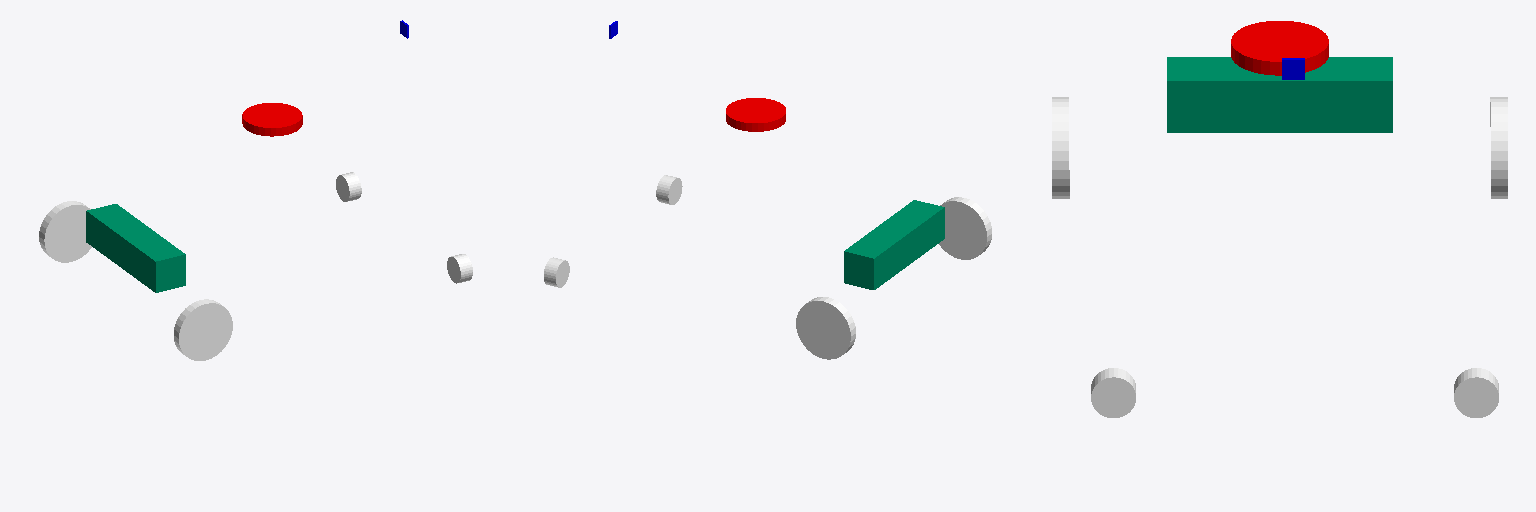
robot.urdf — ikea_table:
<?xml version="1.0" ?>
<robot name="ikea_table">


<link name="base_link"/>


  <joint name="chassis_joint" type="fixed">
    <child link="chassis"/>
    <parent link="base_link"/>
    <origin rpy="0 0 0" xyz="0 0 0.5"/>
  </joint>


  <link name="chassis">
   <visual>
      <origin rpy="0.0 0.0 -1.57" xyz="0 0 0"/>
      <geometry>
        <mesh filename="file://[local-path]/project/ros2_workspace/install/self_driving_bot/share/self_driving_bot/meshes/ikea_table.dae" scale="1 1 1"/>
      </geometry>
    </visual>
    <collision>
      <origin rpy="0.0 0.0 -1.57" xyz="0 0 0"/>
      <geometry>
        <mesh filename="file://[local-path]/project/ros2_workspace/install/self_driving_bot/share/self_driving_bot/meshes/ikea_table.dae" scale="1 1 1"/>
     </geometry>
    </collision>
    <inertial>
      <origin xyz="0.25000000 -0.00000000 0.50000000"/>
      <mass value="4.00000000"/>
      <inertia ixx="0.48390286" ixy="0.00000005" ixz="-0.00091636" iyy="0.57406531" iyz="-0.00033842" izz="0.34467206"/>
    </inertial>
  </link>
  <gazebo reference="chassis">
    <visual>
      <material>
        <ambient>0.4 0.2 0.1 1</ambient> 
        <diffuse>0.6 0.3 0.2 1</diffuse>
        <specular>0.1 0.1 0.1 1</specular> 
        <emissive>0.0 0.0 0.0 1</emissive> 
      </material>
    </visual>
  </gazebo>

  <!-- Control Link -->
  <link name="control">
    <inertial>
      <mass value="1.0"/>
      <origin xyz="0 0 0"/>
      <inertia ixx="0.1" ixy="0.0" ixz="0.0" iyy="0.1" iyz="0.0" izz="0.1"/>
    </inertial>
    <visual>
      <origin rpy="0 0 0" xyz="0 0 0"/>
      <geometry>
        <box size="0.075 0.30 0.075"/> 
      </geometry>
    </visual>
    <collision>
      <origin rpy="0 0 0" xyz="0 0 0"/>
      <geometry>
        <box size="0.075 0.30 0.075"/>
      </geometry>
    </collision>
  </link>
  <gazebo reference="control">
    <visual>
      <material>
        <ambient>0.4 0.2 0.1 1</ambient> 
        <diffuse>0.6 0.3 0.2 1</diffuse>
        <specular>0.1 0.1 0.1 1</specular> 
        <emissive>0.0 0.0 0.0 1</emissive> 
      </material>
    </visual>
  </gazebo>
  <joint name="control_joint" type="fixed">
    <parent link="chassis"/>
    <child link="control"/>
    <origin rpy="0 0 0" xyz="0 0 0.078"/> 
  </joint>


  <!-- Add a base footprint definition -->
  <joint name="base_footprint_joint" type="fixed">
    <parent link="base_link"/>
    <child link="base_footprint"/>
    <origin rpy="0 0 0" xyz="0 0 0.0"/>
  </joint>
  <link name="base_footprint">
    <inertial>
      <mass value="0.0001"/>
      <origin xyz="0 0 0"/>
      <inertia ixx="0.0001" ixy="0.0" ixz="0.0" iyy="0.0001" iyz="0.0" izz="0.0001"/>
    </inertial>
    <visual>
      <origin rpy="0 0 0" xyz="0 0 0"/>
      <geometry>
        <box size="0.001 0.001 0.001"/>
      </geometry>
    </visual>
  </link>

  <link name="wheel_back_left">
    <inertial>
      <origin xyz="0.00000000 -0.00000000 -0.00000000" rpy="-1.57 0.0 0.0"/>
      <mass value="0.25000000"/>
      <inertia ixx="0.00027539" ixy="0.00000000" ixz="0.00000000" iyy="0.00052463" iyz="-0.00000535" izz="0.00027551"/>
    </inertial>
    <visual>
      <geometry>
          <cylinder radius="0.0675" length="0.023"/>
      </geometry>
      <material name="white">
        <color rgba="1 1 1 1"/>
      </material>
    </visual>
    <collision>
      <geometry>
          <cylinder radius="0.0675" length="0.023"/>
      </geometry>
      <contact_coefficients mu="1" kp="1e+13" kd="1.0"/>
    </collision>
  </link>
  <gazebo reference="wheel_back_left">
    <material>
      <ambient>0.0 0.0 0.0 1</ambient> 
      <diffuse>0.0 0.0 0.0 1</diffuse> 
      <specular>0.1 0.1 0.1 1</specular> 
      <emissive>0.0 0.0 0.0 1</emissive> 
    </material>
  </gazebo>
  <joint name="wheel_back_left_joint" type="continuous">
    <origin xyz="-0.0 0.29 0.0" rpy="0.0 -1.57 -1.57"/>
    <parent link="chassis"/>
    <child link="wheel_back_left"/>
    <axis xyz="0.0 0.0 1.0"/>
  </joint>

  <link name="wheel_back_right">
    <inertial>
      <origin xyz="0.00000000 -0.00000000 -0.00000000" rpy="-1.57 0.0 0.0"/>
      <mass value="0.25000000"/>
      <inertia ixx="0.00027539" ixy="0.00000000" ixz="0.00000000" iyy="0.00052463" iyz="-0.00000535" izz="0.00027551"/>
    </inertial>
    <visual>
      <geometry>
          <cylinder radius="0.0675" length="0.023"/>
      </geometry>
      <material name="white">
        <color rgba="1 1 1 1"/>
      </material>
    </visual>
    <collision>
      <geometry>
          <cylinder radius="0.0675" length="0.023"/>
      </geometry>
      <contact_coefficients mu="1" kp="1e+13" kd="1.0"/>
    </collision>
  </link>
  <gazebo reference="wheel_back_right">
    <material>
      <ambient>0.0 0.0 0.0 1</ambient> 
      <diffuse>0.0 0.0 0.0 1</diffuse> 
      <specular>0.1 0.1 0.1 1</specular> 
      <emissive>0.0 0.0 0.0 1</emissive> 
    </material>
  </gazebo>
  <joint name="wheel_back_right_joint" type="continuous">
    <origin xyz="0.0 -0.29 0.0" rpy="0.0 -1.57 -1.57"/>
    <parent link="chassis"/>
    <child link="wheel_back_right"/>
    <axis xyz="0.0 0.0 1.0"/>
  </joint>

  <link name="roll_front_right">
   <visual>
      <origin rpy="0.0 0.0 0.0" xyz="0 0 0"/>
      <geometry>
        <mesh filename="file://[local-path]/project/ros2_workspace/install/self_driving_bot/share/self_driving_bot/meshes/roll.dae" scale="1 1 1"/>
      </geometry>
    </visual>
    <collision>
      <geometry>
        <mesh filename="file://[local-path]/project/ros2_workspace/install/self_driving_bot/share/self_driving_bot/meshes/roll.dae" scale="1 1 1"/>
     </geometry>
    </collision>
    <inertial>
      <origin xyz="-0.00000000 0.00688662 -0.02194443"/>
      <mass value="0.20000000"/>
      <inertia ixx="0.00006659" ixy="-0.00000000" ixz="0.00000000" iyy="0.00007293" iyz="0.00000796" izz="0.00008837"/>
    </inertial>
  </link>
  <gazebo reference="roll_front_right">
    <material>
      <ambient>0.0 0.0 0.0 1</ambient> 
      <diffuse>0.0 0.0 0.0 1</diffuse> 
      <specular>0.1 0.1 0.1 1</specular> 
      <emissive>0.0 0.0 0.0 1</emissive> 
    </material>
  </gazebo>
  <joint name="roll_front_right_joint" type="continuous">
    <origin xyz="0.68 -0.24 0.0" rpy="0.0 0.0 0.0"/>
    <parent link="chassis"/>
    <child link="roll_front_right"/>
    <axis xyz="0.0 0.0 1.0"/>
  </joint>

  <link name="wheel_front_right">
    <visual>
      <geometry>
        <cylinder radius="0.03" length="0.03"/>
      </geometry>
      <material name="white"/>
    </visual>
    <inertial>
      <origin xyz="0.00000000 0.00000000 0.00000000"/>
      <mass value="0.10000000"/>
      <inertia ixx="0.00000823" ixy="0.00000000" ixz="0.00000000" iyy="0.00000866" iyz="0.00000000" izz="0.00000866"/>
    </inertial>
    <collision>
      <geometry>
           <cylinder radius="0.03" length="0.03"/>
      </geometry>
      <contact_coefficients mu="1" kp="1e+13" kd="1.0"/>
    </collision>
  </link>
  <gazebo reference="wheel_front_right_joint">
    <material>
      <ambient>0.0 0.0 0.0 1</ambient> 
      <diffuse>0.0 0.0 0.0 1</diffuse> 
      <specular>0.1 0.1 0.1 1</specular> 
      <emissive>0.0 0.0 0.0 1</emissive> 
    </material>
  </gazebo>
  <joint name="wheel_front_right_joint" type="continuous">http://gazebosim.org/
    <origin xyz="0.0 0.02 -0.040" rpy="0.0 1.57 0.0"/>
    <parent link="roll_front_right"/>
    <child link="wheel_front_right"/>
    <axis xyz="0.0 0.0 1.0"/>
  </joint>

<link name="roll_front_left">
   <visual>
      <origin rpy="0.0 0.0 0.0" xyz="0 0 0"/>
      <geometry>
        <mesh filename="file://[local-path]/project/ros2_workspace/install/self_driving_bot/share/self_driving_bot/meshes/roll.dae" scale="1 1 1"/>
      </geometry>
    </visual>
    <collision>
      <geometry>
        <mesh filename="file://[local-path]/project/ros2_workspace/install/self_driving_bot/share/self_driving_bot/meshes/roll.dae" scale="1 1 1"/>
     </geometry>
    </collision>
    <inertial>
      <origin xyz="-0.00000000 0.00688662 -0.02194443"/>
      <mass value="0.20000000"/>
      <inertia ixx="0.00006659" ixy="-0.00000000" ixz="0.00000000" iyy="0.00007293" iyz="0.00000796" izz="0.00008837"/>
    </inertial>
  </link>
  <gazebo reference="roll_front_left">
    <material>
      <ambient>0.0 0.0 0.0 1</ambient> 
      <diffuse>0.0 0.0 0.0 1</diffuse> 
      <specular>0.1 0.1 0.1 1</specular> 
      <emissive>0.0 0.0 0.0 1</emissive> 
    </material>
  </gazebo>
  <joint name="roll_front_left_joint" type="continuous">
    <origin xyz="0.68 0.24 0.0" rpy="0.0 0.0 0.0"/>
    <parent link="chassis"/>
    <child link="roll_front_left"/>
    <axis xyz="0.0 0.0 1.0"/>
  </joint>

  <link name="wheel_front_left">
    <visual>
      <geometry>
        <cylinder radius="0.03" length="0.03"/>
      </geometry>
      <material name="white"/>
    </visual>
    <inertial>
      <origin xyz="0.00000000 0.00000000 0.00000000"/>
      <mass value="0.10000000"/>
      <inertia ixx="0.00000823" ixy="0.00000000" ixz="0.00000000" iyy="0.00000866" iyz="0.00000000" izz="0.00000866"/>
    </inertial>
    <collision>
      <geometry>
           <cylinder radius="0.03" length="0.03"/>
      </geometry>
      <contact_coefficients mu="1" kp="1e+13" kd="1.0"/>
    </collision>
  </link>
  <gazebo reference="wheel_front_left">
    <material>
      <ambient>0.0 0.0 0.0 1</ambient> 
      <diffuse>0.0 0.0 0.0 1</diffuse> 
      <specular>0.1 0.1 0.1 1</specular> 
      <emissive>0.0 0.0 0.0 1</emissive> 
    </material>
  </gazebo>
  <joint name="wheel_front_left_joint" type="continuous">
    <origin xyz="-0.0 0.02 -0.040" rpy="0.0 1.57 0.0"/>
    <parent link="roll_front_left"/>
    <child link="wheel_front_left"/>
    <axis xyz="0.0 0.0 1.0"/>
  </joint>

  <link name="camera">
    <inertial>
            <mass value="0.01" />
            <inertia ixx="0.01" ixy="0.0" ixz="0" 
            iyy="0.01" iyz="0" izz="0.01" />
    </inertial>
    <visual>
      <geometry>
        <box size="0.005 0.03 0.03"/>
      </geometry>
      <material name="blue">
        <color rgba="0 0 1 1"/>
      </material>
    </visual>
    <collision>
      <origin xyz="0.0 0.0 0.0" rpy="0.0 0.0 1.57"/>
      <geometry>
          <box size="0.03 0.005 0.03"/>
      </geometry>
    </collision>
  </link>
  <gazebo reference="camera_joint">
    <material>
      <ambient>0.0 0.0 0.0 1</ambient> 
      <diffuse>0.0 0.0 0.0 1</diffuse> 
      <specular>0.1 0.1 0.1 1</specular> 
      <emissive>0.0 0.0 0.0 1</emissive> 
    </material>
  </gazebo>
  <joint name="camera_joint" type="fixed">
    <origin xyz="0.68 0.0175 0.433" rpy="0 0.0 0.0"/>
    <parent link="chassis"/>
    <child link="camera"/>
    <axis xyz="0.0 0.0 1.0"/>
  </joint>

  <link name="rplidar_link">
    <inertial>
            <mass value="0.1" />
            <inertia ixx="0.01" ixy="0.0" ixz="0" 
            iyy="0.01" iyz="0" izz="0.01" />
    </inertial>

    <visual>
      <geometry>
        <cylinder radius="0.065" length="0.02"/>
      </geometry>
      <material name="red">        
          <color rgba="1 0 0 1"/>
      </material>
    </visual>

    <collision>
      <geometry>
        <cylinder radius="0.065" length="0.02"/>
      </geometry>
    </collision>
  </link>

  <joint name="lidar_joint" type="fixed">
    <origin xyz="0.34 0.0 0.305" rpy="0.0 0.0 0.0"/>
    <parent link="chassis"/>
    <child link="rplidar_link"/>
    <axis xyz="0.0 0.0 1.0"/>
  </joint>

   <!-- DIFFENERNTIAL DRIVE-->
  <gazebo>
    <plugin filename="gz-sim-diff-drive-system" name="gz::sim::systems::DiffDrive">
      <left_joint>wheel_back_left_joint</left_joint>
      <right_joint>wheel_back_right_joint</right_joint>
      <wheel_separation>0.575</wheel_separation>
      <wheel_radius>0.0675</wheel_radius>
      <max_linear_acceleration>2</max_linear_acceleration>
      <min_linear_acceleration>-2</min_linear_acceleration>
      <max_angular_acceleration>3</max_angular_acceleration>
      <min_angular_acceleration>-3</min_angular_acceleration>
      <max_linear_velocity>0.5</max_linear_velocity>
      <min_linear_velocity>-0.5</min_linear_velocity>
      <max_angular_velocity>0.75</max_angular_velocity>
      <min_angular_velocity>-0.75</min_angular_velocity>
      <topic>/cmd_vel</topic>
      <odom_topic>/odom</odom_topic>
      <tf_topic>tf</tf_topic>
      <frame_id>odom</frame_id>
      <child_frame_id>base_link</child_frame_id>
      <odom_publish_frequency>30</odom_publish_frequency>
    </plugin>
    <plugin filename="gz-sim-joint-state-publisher-system" name="gz::sim::systems::JointStatePublisher">
      <joint_name>wheel_back_left_joint</joint_name>
      <joint_name>wheel_back_right_joint</joint_name>
      <joint_name>roll_front_left_joint</joint_name>
      <joint_name>wheel_front_left_joint</joint_name>
      <joint_name>roll_front_right_joint</joint_name>
      <joint_name>wheel_front_right_joint</joint_name>
      <topic>joint_states</topic>
      <update_rate>30</update_rate>
    </plugin>
  </gazebo>
  
   <!-- CAMERA-->
  <gazebo reference="camera_joint">
    <sensor name="rgbd_camera" type="rgbd_camera">
      <always_on>1</always_on>
      <camera>
        <horizontal_fov>1.25</horizontal_fov>
        <image>
          <width>320</width>
          <height>240</height>
        </image>
        <clip>
          <near>0.3</near>
          <far>100</far>
        </clip>
        <optical_frame_id>oakd_rgb_camera_optical_frame</optical_frame_id>
      </camera>
      <update_rate>10</update_rate>
      <visualize>true</visualize>
      <topic>rgbd_camera</topic>
    </sensor>
    <visual>
      <material>
        <diffuse>0.011764705882352941 0.011764705882352941 0.011764705882352941 1</diffuse>
        <specular>0 0 0 1</specular>
        <emissive>0 0 0 1</emissive>
      </material>
    </visual>
  </gazebo>

  <!-- LIDAR -->
  <gazebo reference="rplidar_link">
    <sensor name="rplidar" type="gpu_lidar">
      <update_rate>10.0</update_rate>
      <visualize>True</visualize>
      <always_on>true</always_on>
      <gz_frame_id>rplidar_link</gz_frame_id>
      <topic>scan</topic>
      <lidar>
        <scan>
          <horizontal>
            <samples>360</samples>
            <resolution>1.0</resolution>
            <min_angle>0.0</min_angle>
            <max_angle>6.28</max_angle>
          </horizontal>
        </scan>
        <range>
          <min>0.6</min>
          <max>20.0</max>
          <resolution>0.01</resolution>
        </range>
      </lidar>
    </sensor>
    <visual>
      <material>
        <diffuse>0.011764705882352941 0.011764705882352941 0.011764705882352941 1</diffuse>
        <specular>0 0 0 1</specular>
        <emissive>0 0 0 1</emissive>
      </material>
    </visual>
  </gazebo>



</robot>

--- Facts derived from the render (not from the file) ---
Views: 3 orthographic renders of the robot side by side, from view 1: azimuth 30°, elevation 25°; view 2: azimuth 150°, elevation 25°; view 3: azimuth 270°, elevation 25°.
Model ikea_table with 12 links and 11 joints (6 continuous, 5 fixed), rooted at base_link, posed every joint at zero.
Links seen in each view (by area): view 1: control, wheel_back_right, wheel_back_left, rplidar_link, wheel_front_right, wheel_front_left; view 2: control, wheel_back_left, wheel_back_right, rplidar_link, wheel_front_left, wheel_front_right; view 3: control, rplidar_link, wheel_front_right, wheel_front_left, wheel_back_left, wheel_back_right.
Boxes of the visible links, box(x1,y1,x2,y2) form: control: box(86, 204, 185, 292); wheel_back_right: box(174, 299, 232, 360); wheel_back_left: box(39, 201, 91, 262); rplidar_link: box(242, 103, 302, 136); wheel_front_right: box(447, 254, 472, 283); wheel_front_left: box(336, 172, 361, 201); control: box(844, 200, 944, 289); wheel_back_left: box(796, 297, 855, 359); wheel_back_right: box(939, 197, 991, 259); rplidar_link: box(726, 98, 785, 131); wheel_front_left: box(544, 257, 569, 287); wheel_front_right: box(656, 175, 682, 204); control: box(1167, 57, 1392, 132); rplidar_link: box(1231, 21, 1328, 75); wheel_front_right: box(1091, 368, 1135, 417); wheel_front_left: box(1454, 368, 1498, 417); wheel_back_left: box(1490, 97, 1507, 198); wheel_back_right: box(1052, 97, 1069, 198).
Size in the robot's own frame: 0.7625 by 0.6032 by 0.9485 metres.
Geometry: only primitive shapes (box / cylinder / sphere) drawn; not drawn: 3 mesh visuals (reference in a form the renderer does not follow).